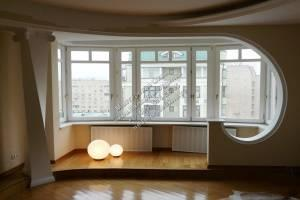window: (54, 44, 262, 122)
